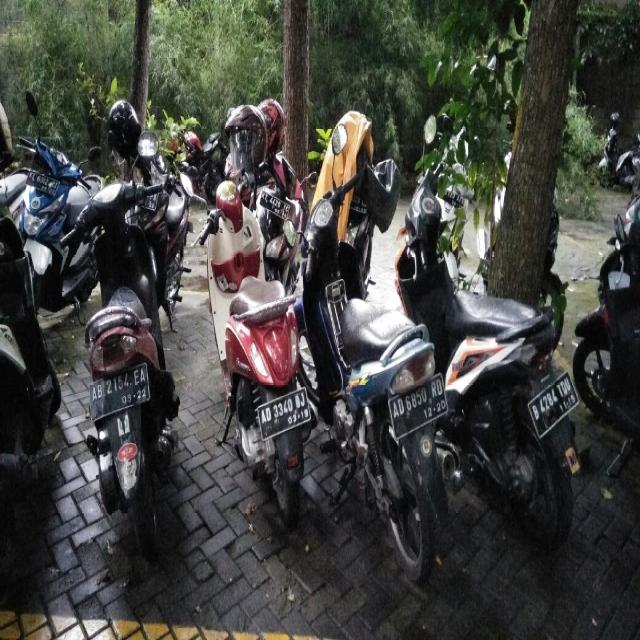plate: (528, 369, 578, 438), (387, 376, 447, 428), (89, 362, 150, 411), (259, 386, 310, 430), (258, 188, 288, 223)
